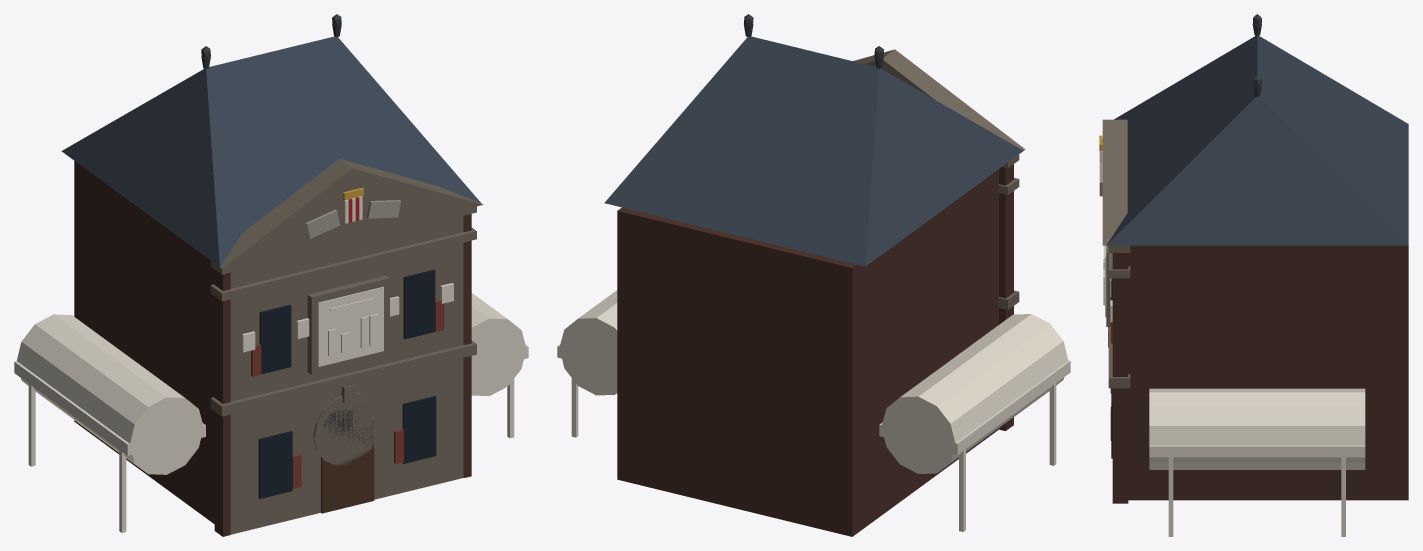
Rendered from waag.glb.
3 views of the same model, side by side, from view 1: azimuth 30°, elevation 25°; view 2: azimuth 150°, elevation 25°; view 3: azimuth 270°, elevation 25° (orthographic). The views are drawn at different scales.
Parts seen in each view (by area): view 1: Waag; view 2: Waag; view 3: Waag.
Boxes of the visible parts, bbox=[...] form: Waag: bbox=[14, 14, 528, 536]; Waag: bbox=[557, 14, 1070, 536]; Waag: bbox=[1099, 14, 1408, 536].
Size of the model in its own units: 18.4 by 18.46 by 12.88.
